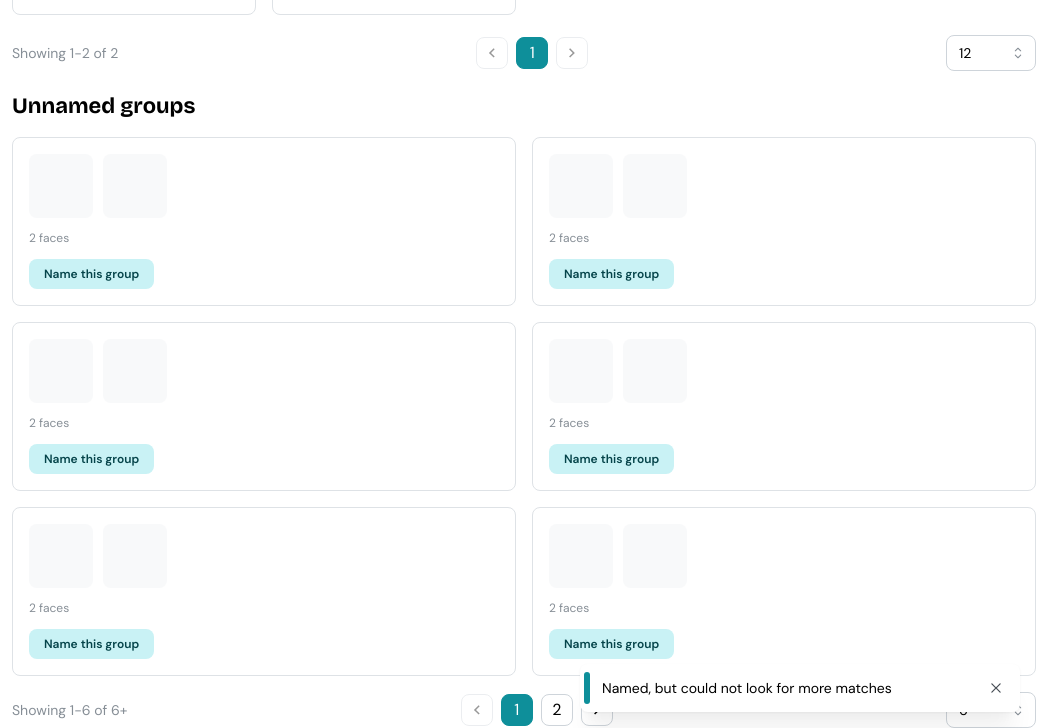
Test: People › loads further group pages only as needed and pages them like other lists
This screenshot has width=1048, height=728.
(page scrolled)
Expected: the number of buttons "Name this group" is 6, [29,259,154,289]; [549,259,674,289]; [29,444,154,474]; [549,444,674,474]; [29,629,154,659]; [549,629,674,659]
Expected: the text "Showing 1-6 of 6+" is shown, [12,700,128,720]
Click the button "2".
click(557, 710)  # box [541,694,573,726]
(page scrolled)
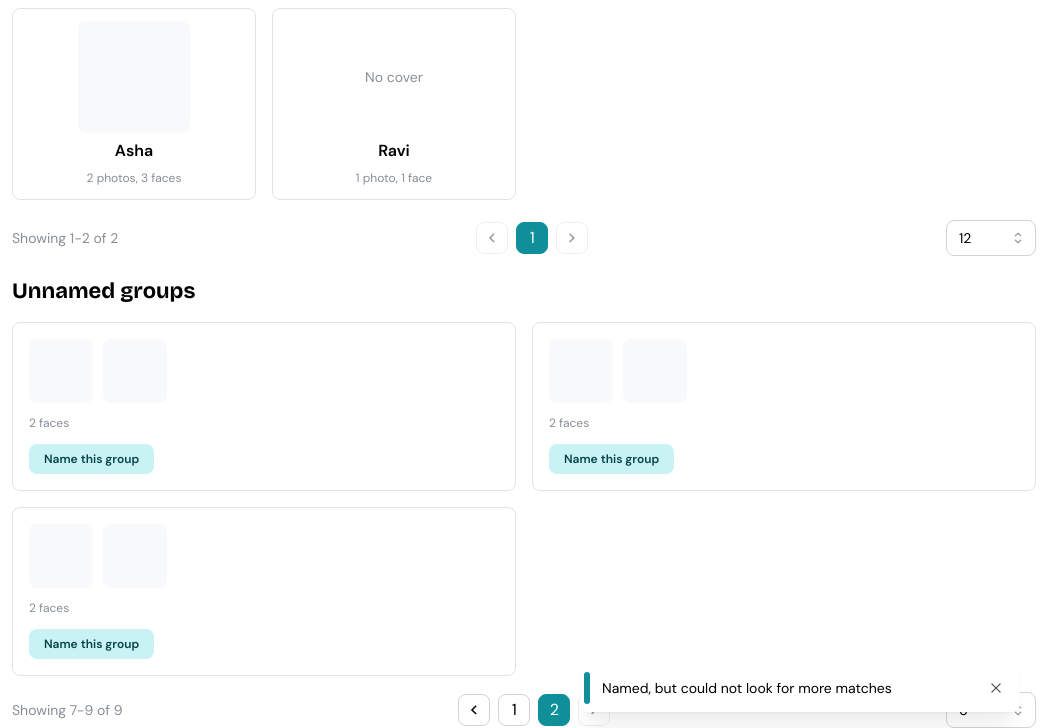
Now the number of buttons "Name this group" is 3, box [29,444,154,474]; [549,444,674,474]; [29,629,154,659]
Now the text "Showing 7-9 of 9" is shown, box [12,700,122,720]
